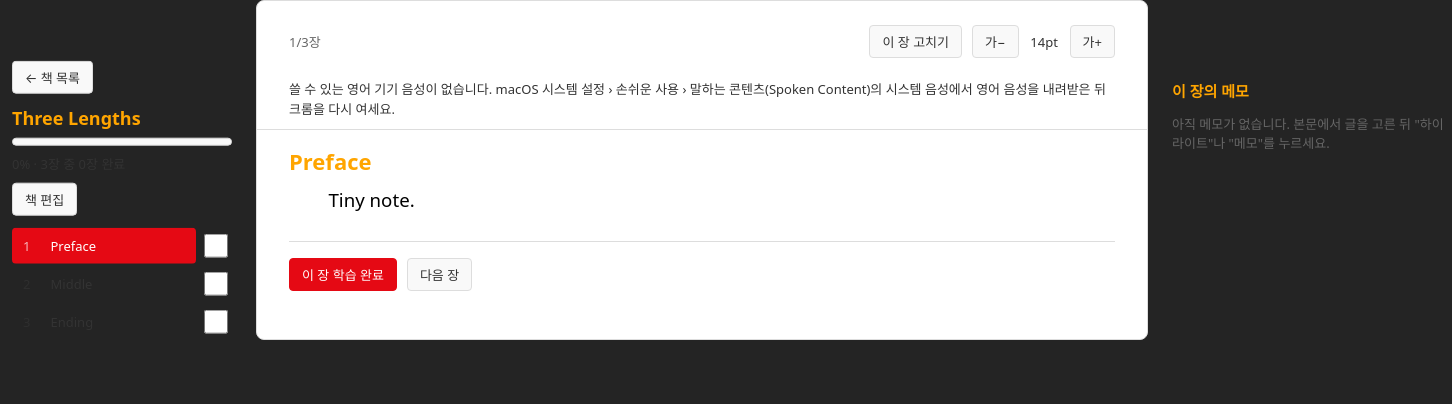
Test case: 4.1 chapter completion › 4.1-1 (b) the end-of-text button turns the chapter on and off in storage
Expected: the text "Tiny note." is shown, 328,187 -> 415,212
Step 1. Click the button "이 장 학습 완료" → coordinates (343, 274), box 289,258 -> 397,291
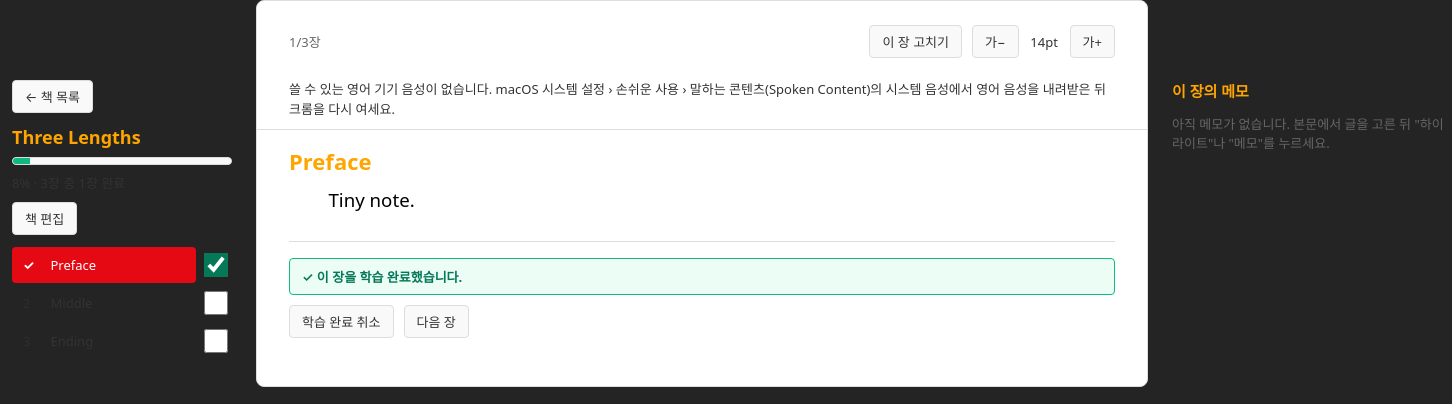
완료한 장의 버튼은 끄는 버튼으로 바뀐다.
Step 2. Click the button "학습 완료 취소" → coordinates (341, 321), box 289,305 -> 394,338
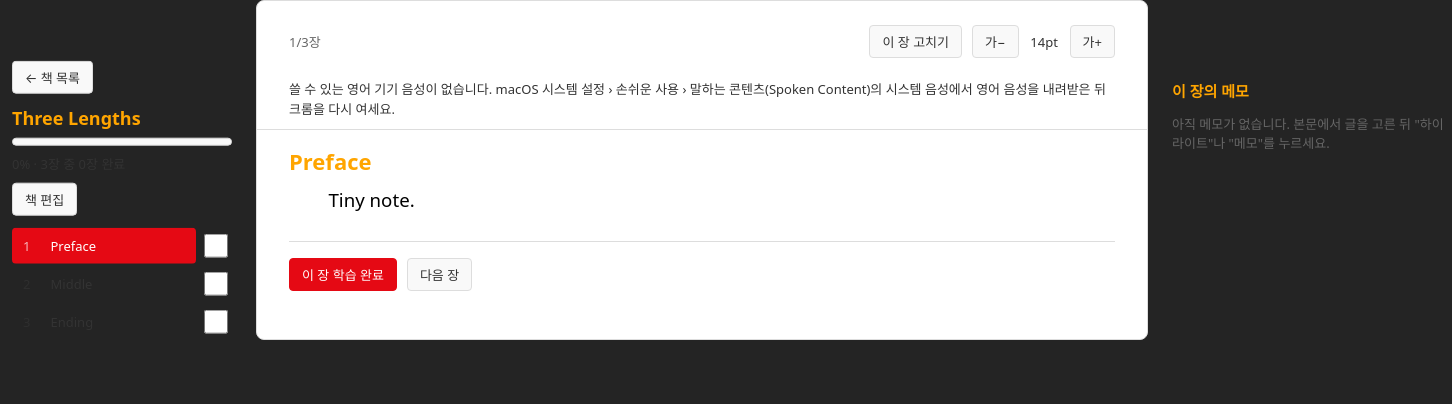
Now the button "이 장 학습 완료" is shown, box 289,258 -> 397,291
